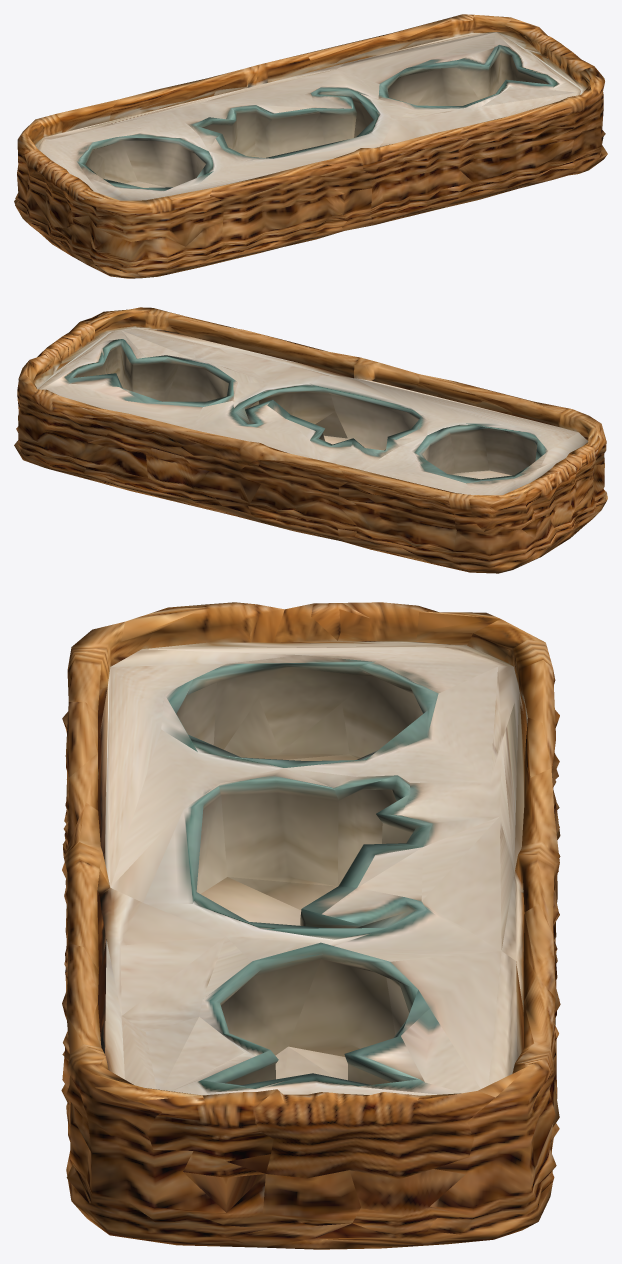
Rendered from basket.glb.
3 views of the same model, one above another, from view 1: azimuth 30°, elevation 25°; view 2: azimuth 150°, elevation 25°; view 3: azimuth 270°, elevation 25° (orthographic). The views are drawn at different scales.
Parts seen in each view (by area): view 1: tripo_node_4b8ff411; view 2: tripo_node_4b8ff411; view 3: tripo_node_4b8ff411.
Boxes of the visible parts, x1,y1,x2,y2 form: tripo_node_4b8ff411: (14, 14, 607, 278); tripo_node_4b8ff411: (14, 307, 607, 573); tripo_node_4b8ff411: (61, 602, 560, 1249).
Size of the model in its own units: 1.72 by 0.2443 by 0.7119.
Materials: 1 (1 with a texture image).
